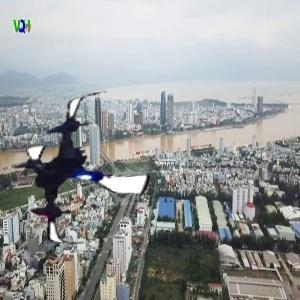drone: (5, 90, 165, 250)
